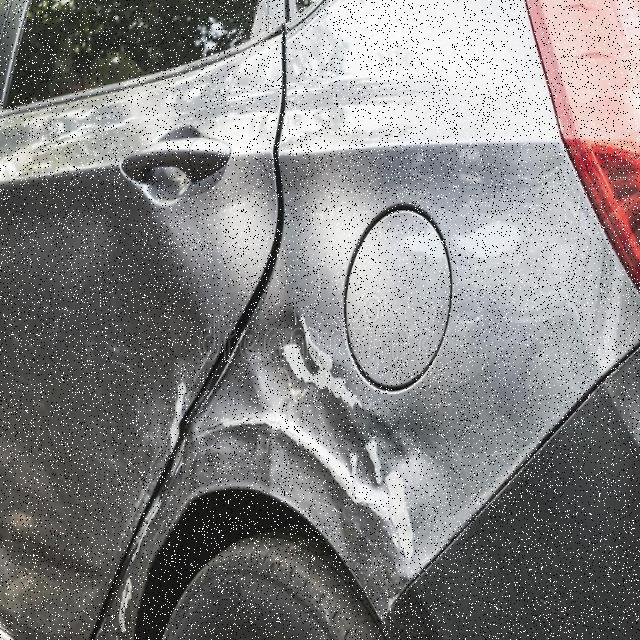doorouter-dent: (0, 38, 209, 458)
quaterpanel-dent: (272, 10, 551, 637)
